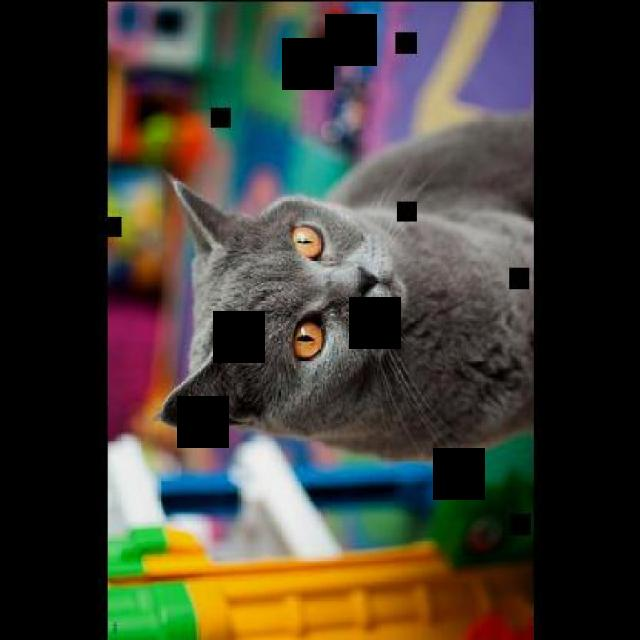unauthorized: (157, 110, 534, 462)
